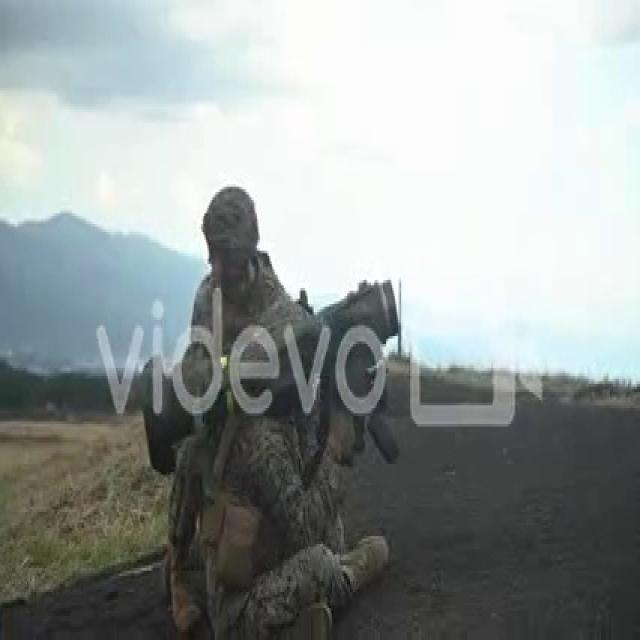bazooka: (134, 269, 404, 481)
